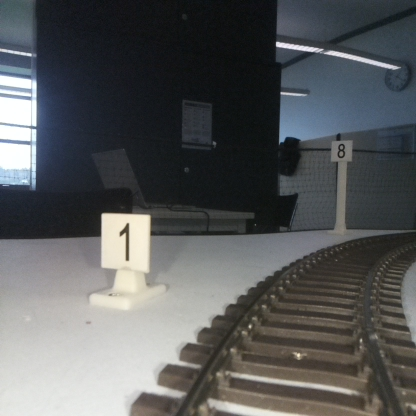white-info-8: (331, 140, 352, 234)
white-stop-1: (101, 214, 150, 306)
